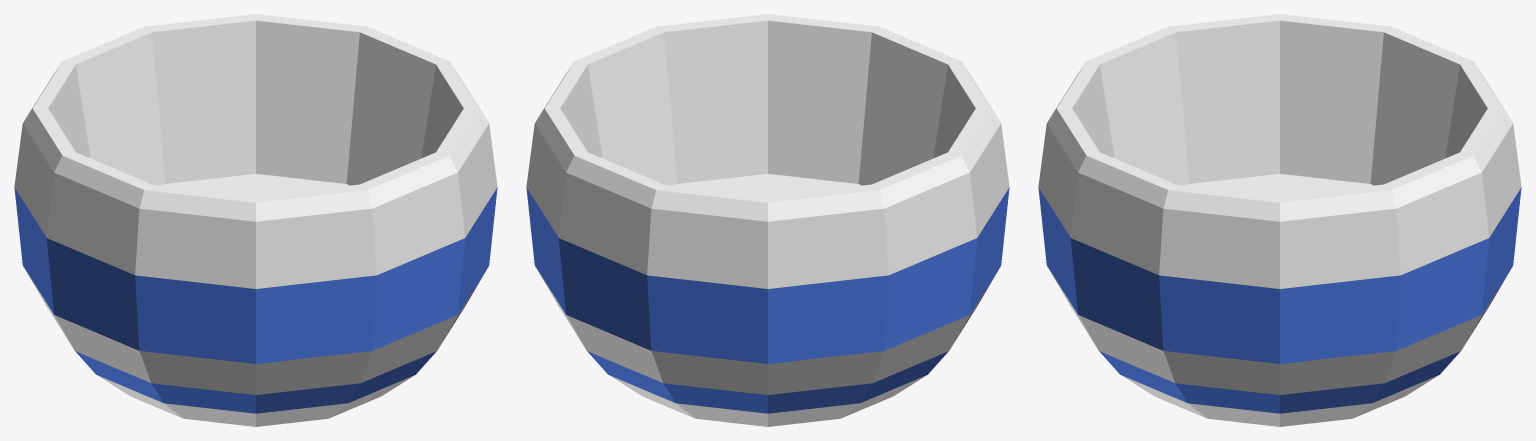
File: Deep Dish_6.fbx
3 views of the same model, side by side, from view 1: azimuth 30°, elevation 25°; view 2: azimuth 150°, elevation 25°; view 3: azimuth 270°, elevation 25° (orthographic).
Visible parts, largest first — view 1: Deep Dish_6; view 2: Deep Dish_6; view 3: Deep Dish_6.
Boxes of the visible parts, box(x1,y1,x2,y2) form: Deep Dish_6: box(14, 14, 497, 426); Deep Dish_6: box(526, 14, 1009, 426); Deep Dish_6: box(1038, 14, 1521, 426).
Size of the model in its own units: 0.1349 by 0.0793 by 0.1349.
